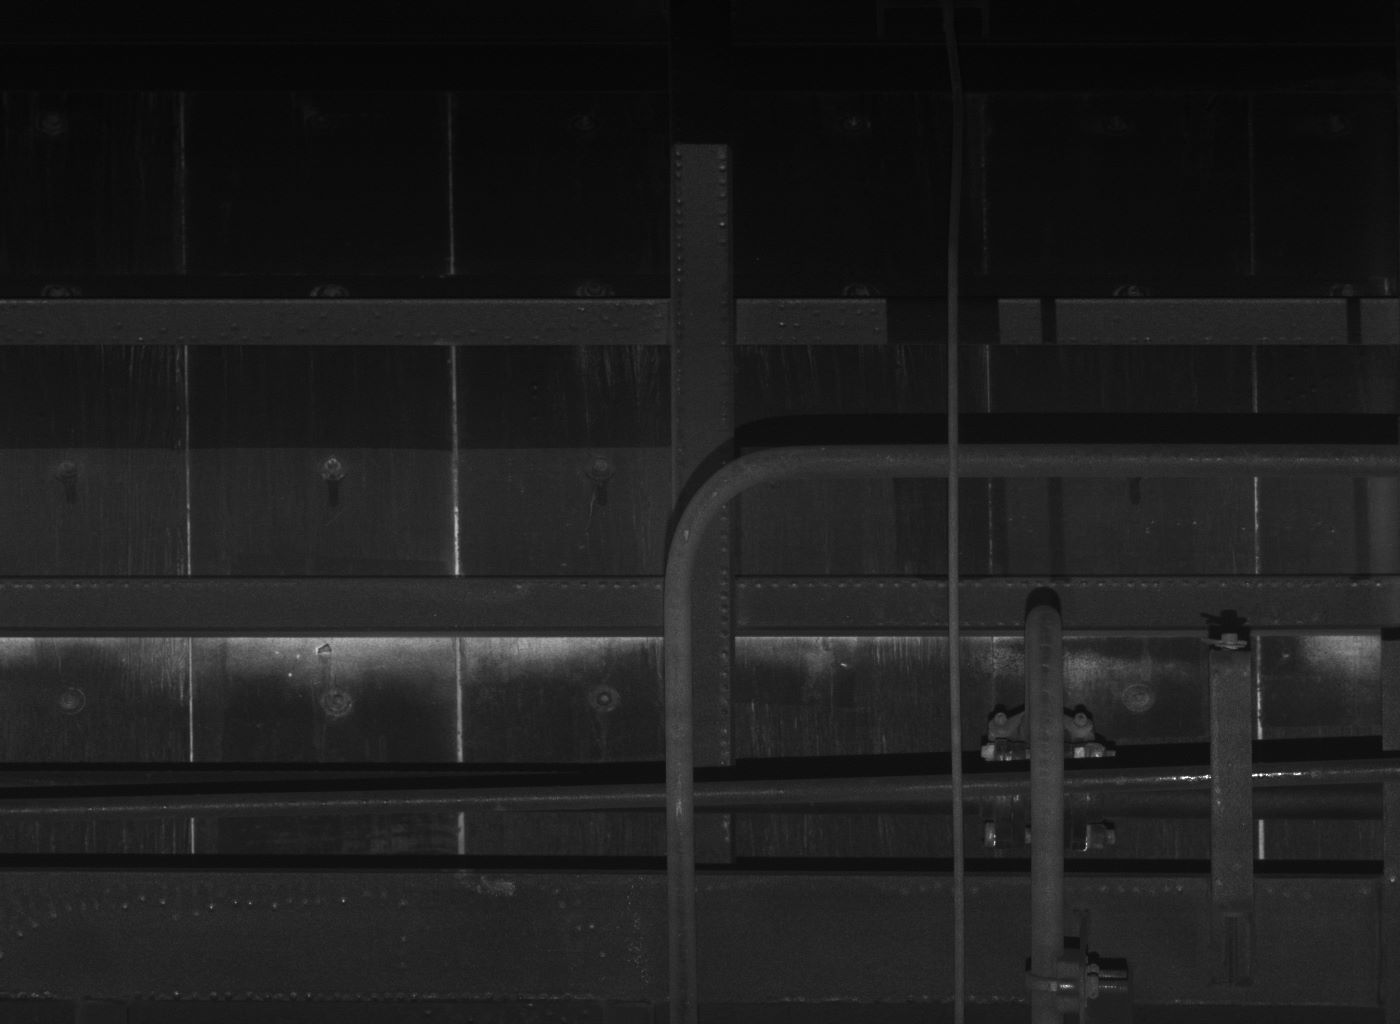normal: (1205, 632, 1253, 916)
